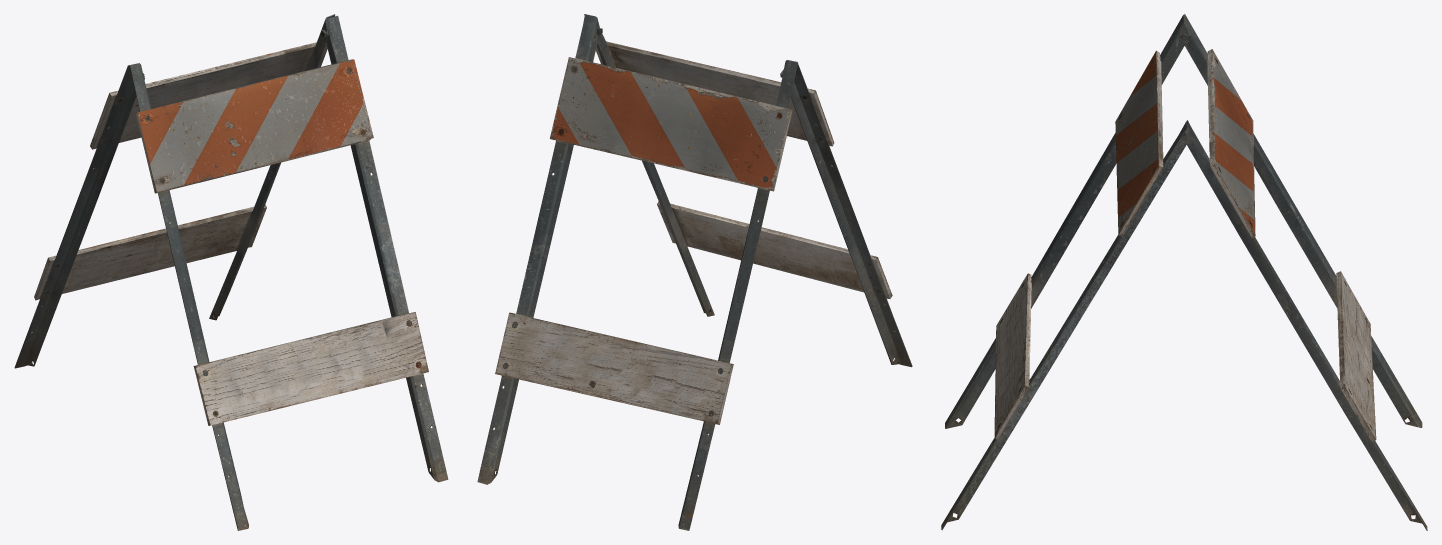
File: SM_JiaoTongBan.glb
3 views of the same model, side by side, from view 1: azimuth 30°, elevation 25°; view 2: azimuth 150°, elevation 25°; view 3: azimuth 270°, elevation 25° (orthographic). The views are drawn at different scales.
Parts seen in each view (by area): view 1: SM_JiaoTongBan; view 2: SM_JiaoTongBan; view 3: SM_JiaoTongBan.
Part boxes in pixels (bbox=[...]): SM_JiaoTongBan: bbox=[14, 14, 448, 530]; SM_JiaoTongBan: bbox=[477, 14, 912, 530]; SM_JiaoTongBan: bbox=[941, 14, 1427, 530].
Size of the model in its own units: 0.6158 by 1.02 by 1.09.
Materials: 1 (1 with a texture image).
